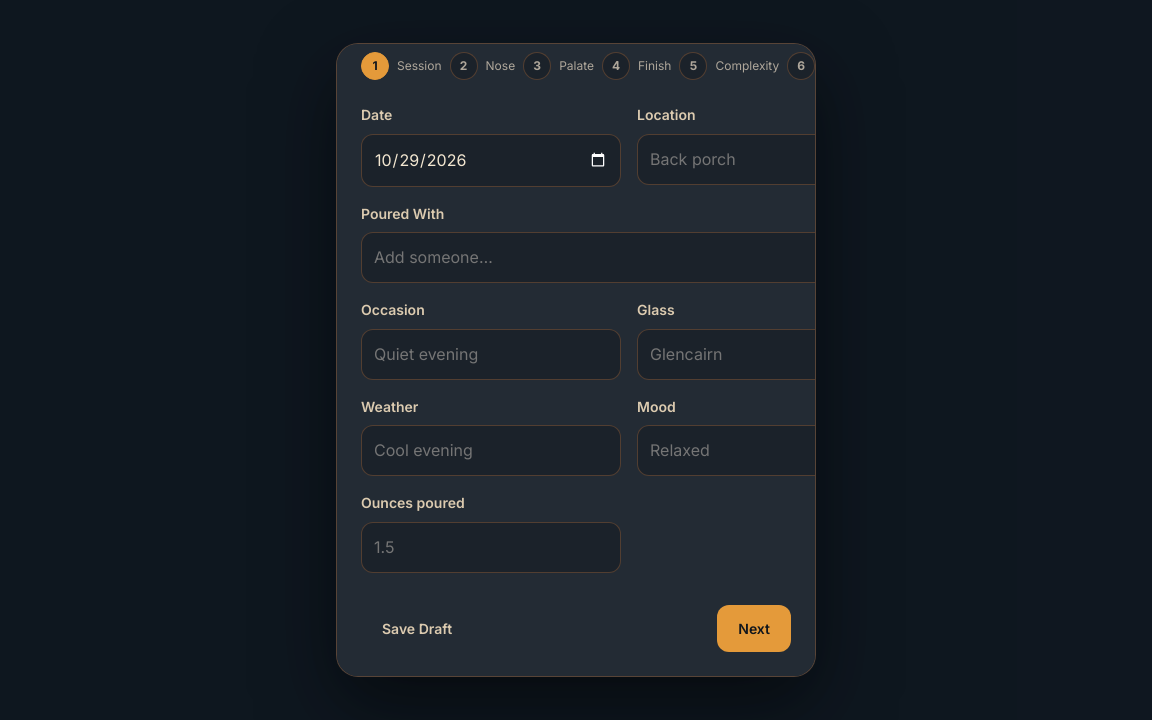
Scenario: PourWizard › keeps drafts separate per bottle
(page scrolled)
Click the button "Next" at (754, 628), box [717, 605, 791, 652]
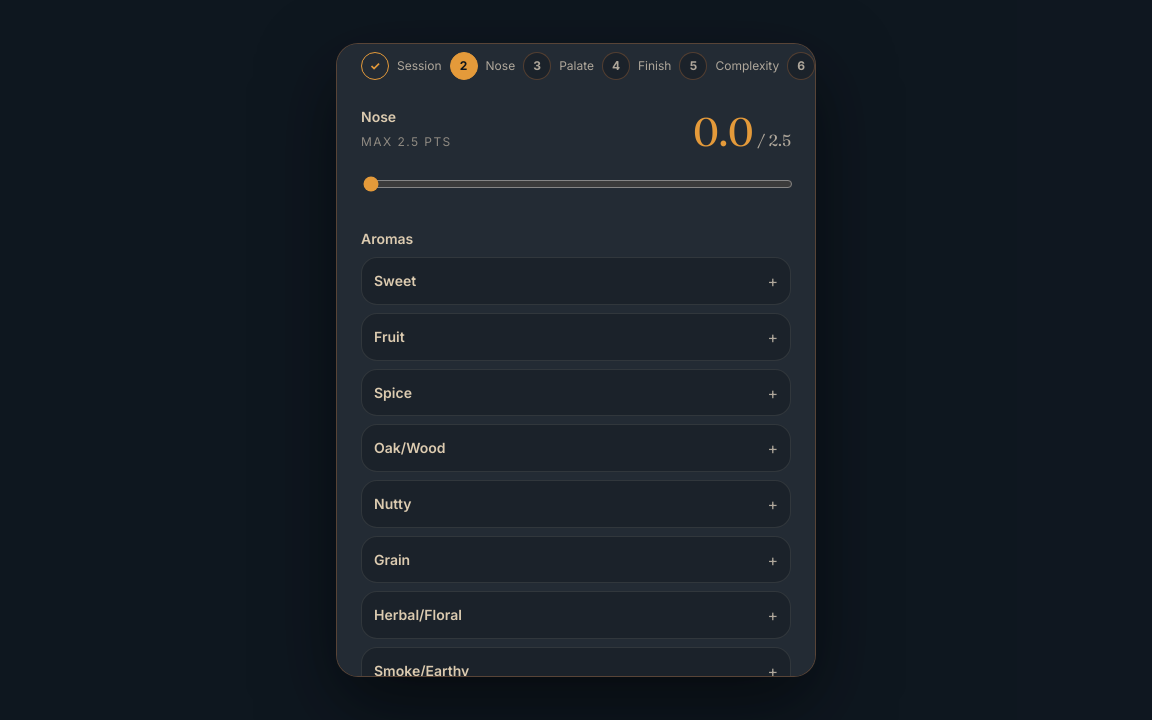
Check: the slider labelled "Nose" holds "0", box [363, 162, 793, 206]
